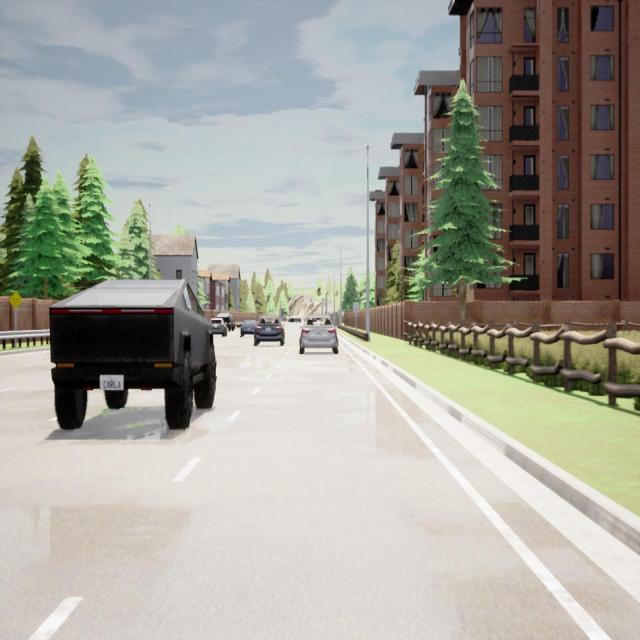Traffic_Signs: (353, 303, 360, 313)
Vehicle: (49, 279, 220, 429), (298, 312, 340, 355), (253, 316, 286, 348), (217, 313, 237, 334), (238, 316, 254, 340), (210, 318, 228, 338), (288, 315, 302, 324)
